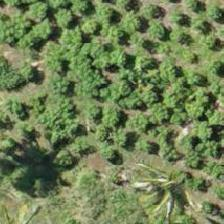coconut_tree: (131, 133, 221, 223)
